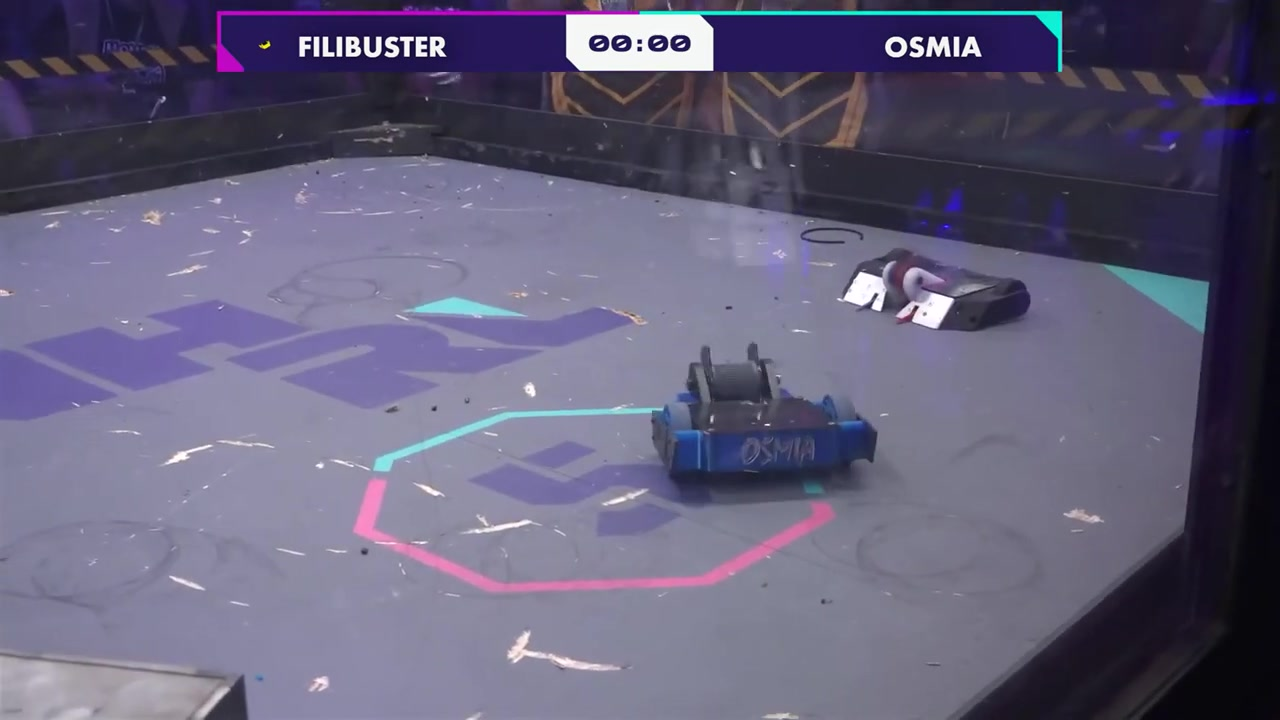belt: (800, 222, 863, 250)
combatbot: (651, 359, 879, 475), (836, 248, 1031, 336)
housebot: (0, 642, 247, 720)
